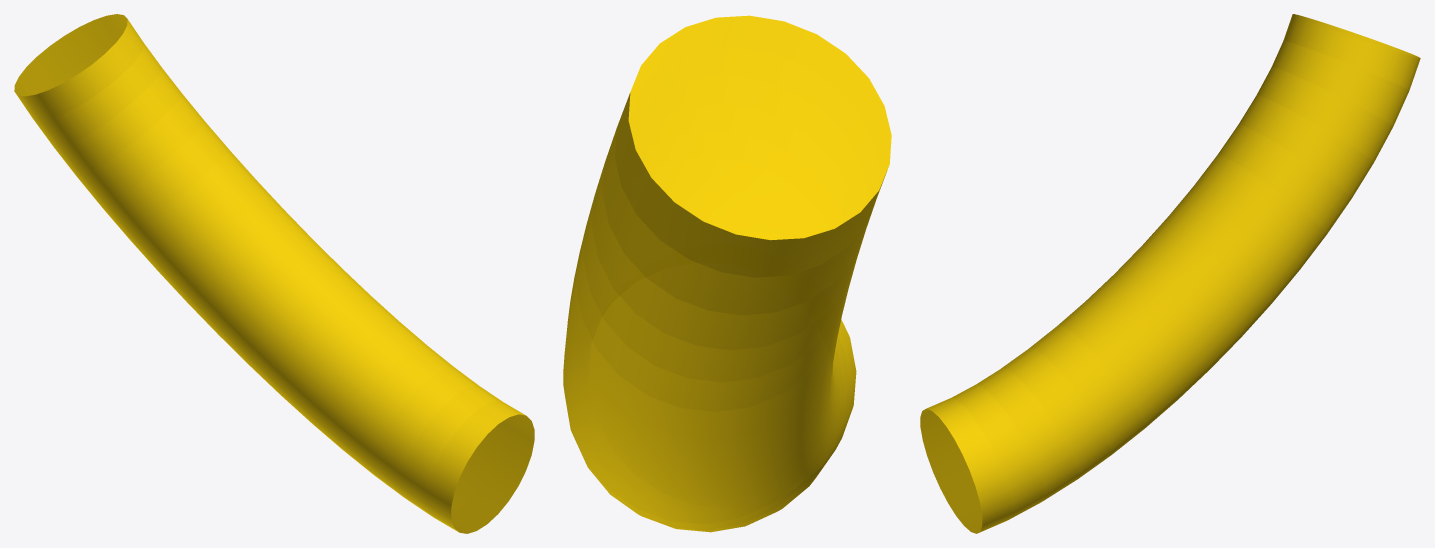
Rendered from Event_420094457_track_78.fbx.
3 renders of one model, left to right at view 1: azimuth 30°, elevation 25°; view 2: azimuth 150°, elevation 25°; view 3: azimuth 270°, elevation 25°, orthographic. The views are drawn at different scales.
Visible parts, largest first — view 1: Model; view 2: Model; view 3: Model.
Boxes of the visible parts, x1,y1,x2,y2 form: Model: (14, 14, 534, 533); Model: (563, 15, 891, 532); Model: (920, 14, 1420, 533).
Bounding box in the file's own units: 0.1118 × 0.1365 × 0.1475.
